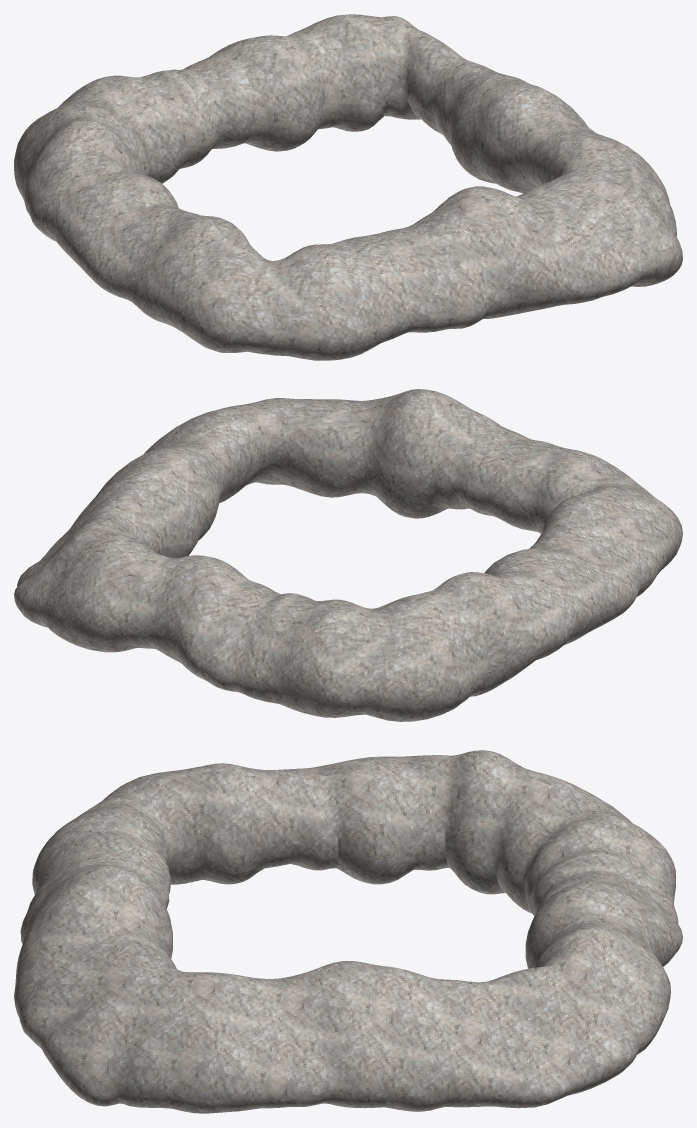
File: mountans.fbx
3 renders of one model, top to bottom at view 1: azimuth 30°, elevation 25°; view 2: azimuth 150°, elevation 25°; view 3: azimuth 270°, elevation 25°, orthographic. The views are drawn at different scales.
Visible parts, largest first — view 1: Retopo_Cube.016; view 2: Retopo_Cube.016; view 3: Retopo_Cube.016.
Boxes of the visible parts, <box> form: Retopo_Cube.016: <box>14,14,682,360</box>; Retopo_Cube.016: <box>14,389,682,721</box>; Retopo_Cube.016: <box>14,750,682,1113</box>.
Bounding box in the file's own units: 39033 × 9131 × 38748.
